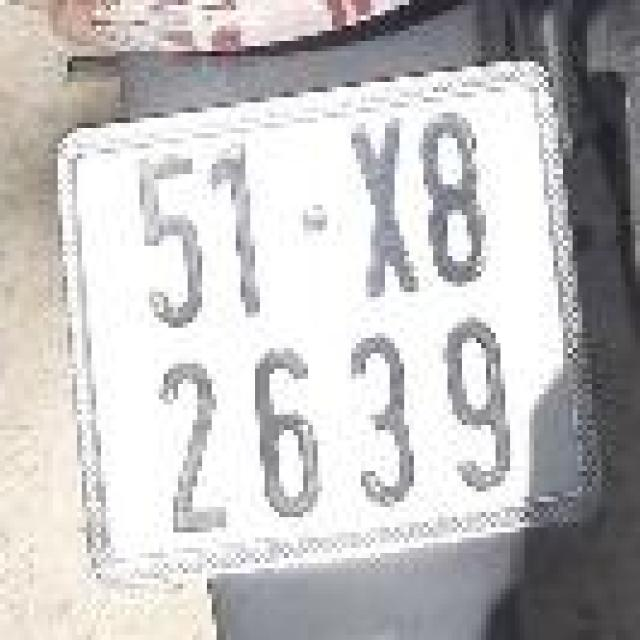1: (209, 136, 277, 325)
2: (161, 351, 238, 545)
3: (339, 333, 426, 522)
5: (128, 138, 214, 333)
6: (252, 330, 334, 530)
8: (418, 107, 496, 292)
9: (433, 307, 525, 512)
X: (342, 110, 418, 310)
